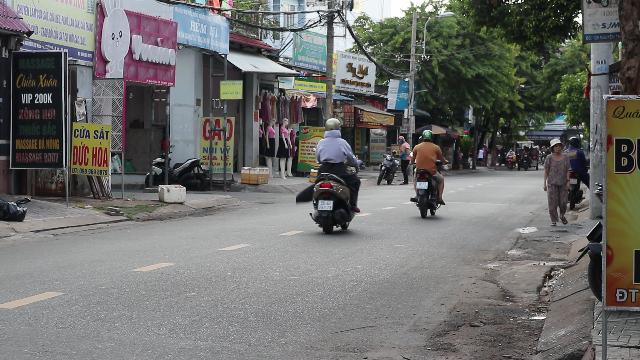helmet: (323, 117, 341, 134)
licenseplate: (318, 200, 332, 210)
motorcyclist: (306, 115, 362, 232)
